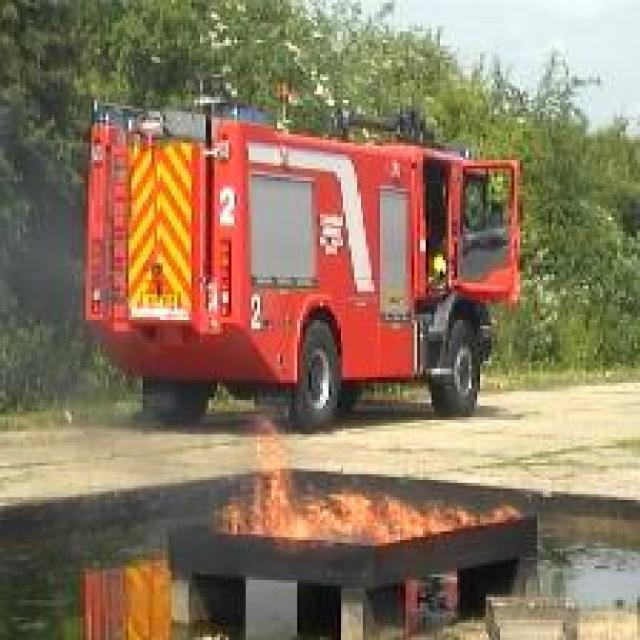Fire: (213, 410, 522, 547)
